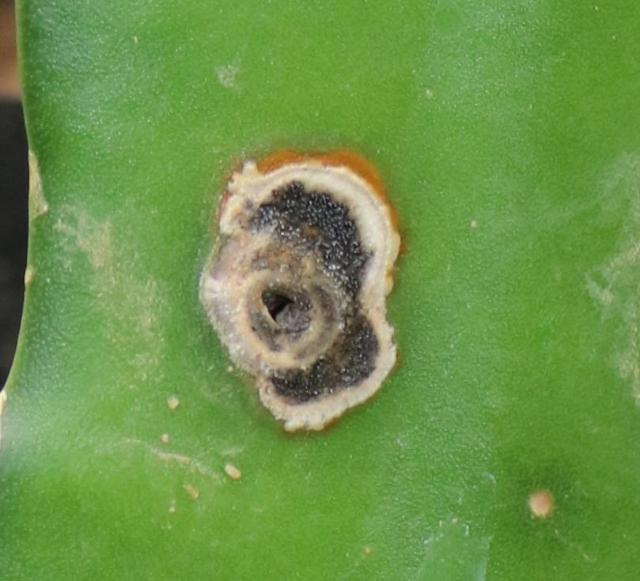stemcanker: (187, 133, 418, 444)
